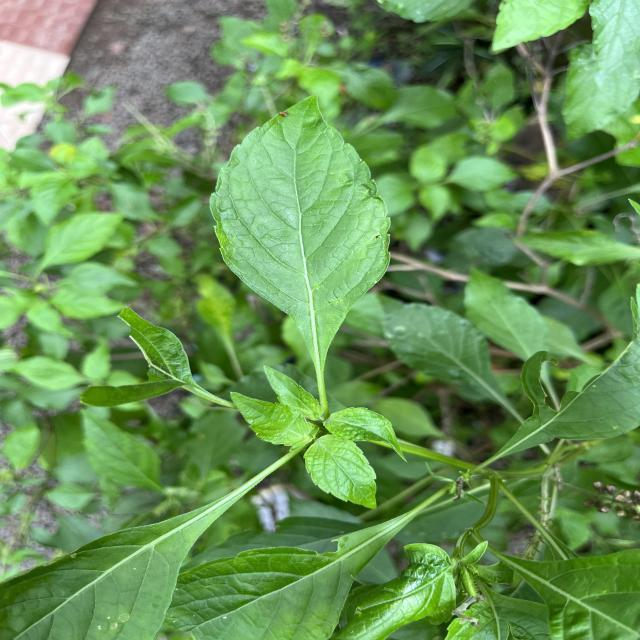Ocimum gratissimum: (204, 92, 396, 368)
